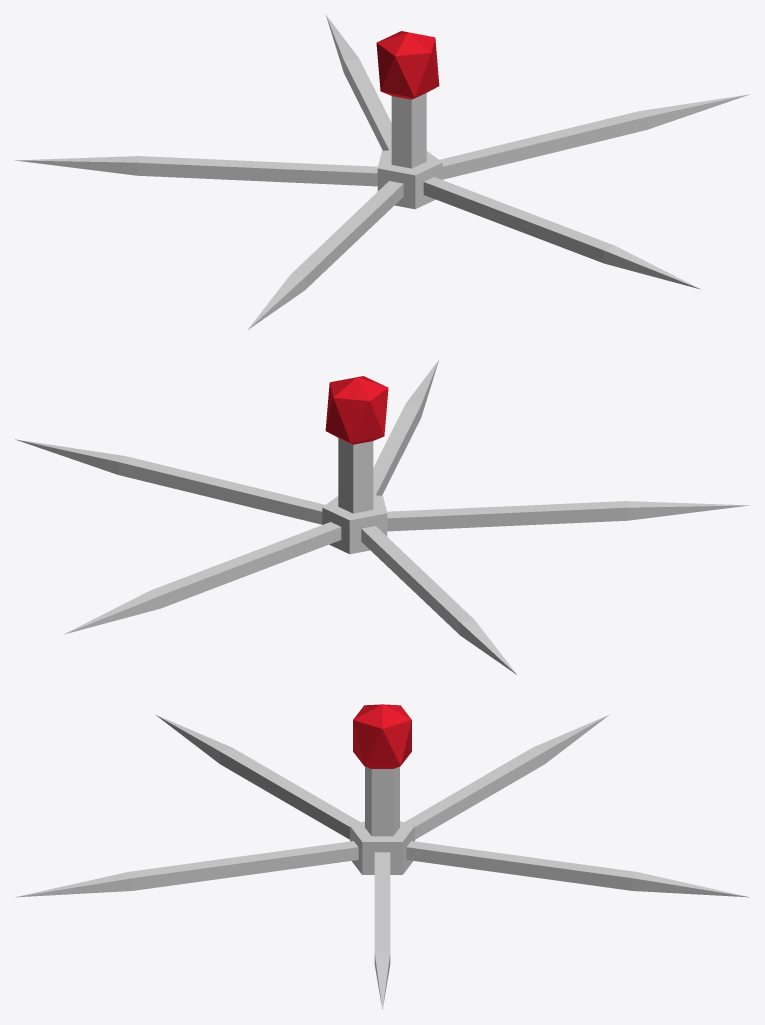
Rendered from Phage 1.fbx.
The picture shows the model from 3 angles, top to bottom: view 1: azimuth 30°, elevation 25°; view 2: azimuth 150°, elevation 25°; view 3: azimuth 270°, elevation 25°; orthographic projection. The views are drawn at different scales.
Parts seen in each view (by area): view 1: Icosphere; view 2: Icosphere; view 3: Icosphere.
Part boxes in pixels (left/top/right/bottom): Icosphere: left=15, top=14, right=749, bottom=330; Icosphere: left=15, top=359, right=749, bottom=675; Icosphere: left=15, top=704, right=749, bottom=1010.
Size of the model in its own units: 2025 by 507 by 2129.
